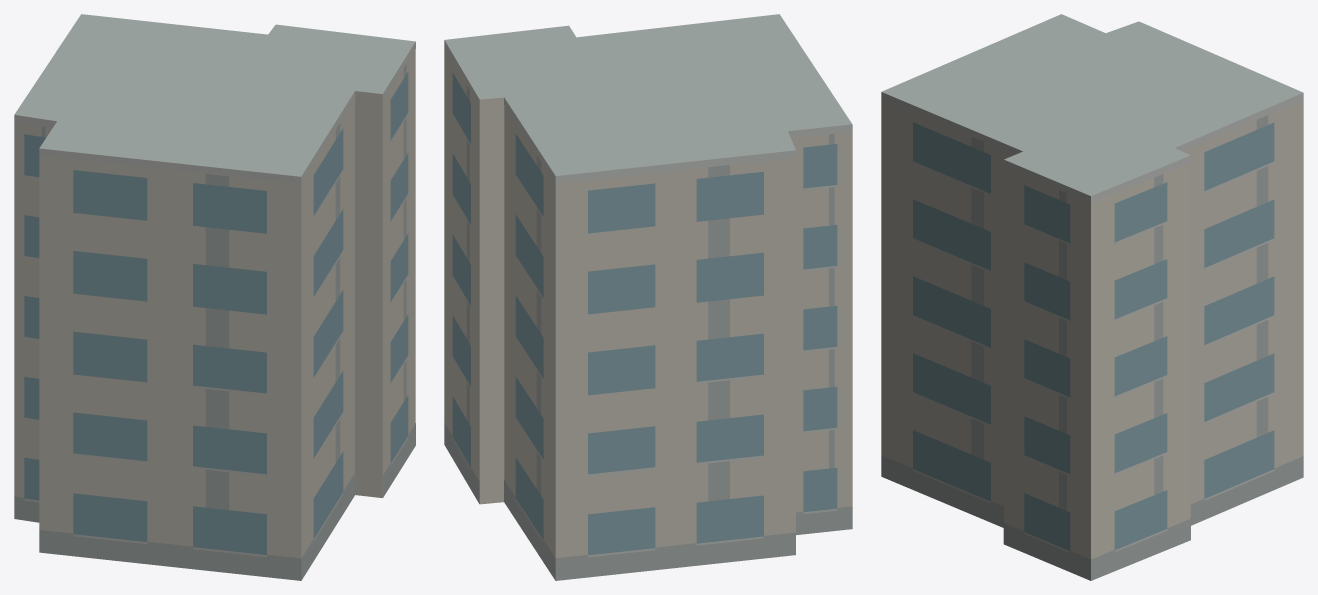
File: survey-upis-32912573.glb
The picture shows the model from 3 angles, left to right: view 1: azimuth 30°, elevation 25°; view 2: azimuth 150°, elevation 25°; view 3: azimuth 270°, elevation 25°; orthographic projection. The views are drawn at different scales.
Parts seen in each view (by area): view 1: survey-upis-32912573.tmp; view 2: survey-upis-32912573.tmp; view 3: survey-upis-32912573.tmp.
Part boxes in pixels (box(x1,y1,x2,y2)): survey-upis-32912573.tmp: box(14, 14, 415, 580); survey-upis-32912573.tmp: box(444, 14, 852, 580); survey-upis-32912573.tmp: box(881, 14, 1303, 580).
Size of the model in its own units: 13.41 by 13.2 by 13.14.
